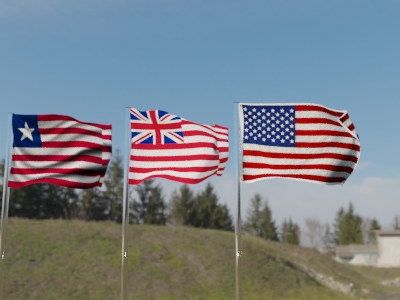America flag: (242, 102, 363, 188)
Liberia flag: (7, 114, 117, 189)
Malaysia flag: (129, 105, 230, 184)
